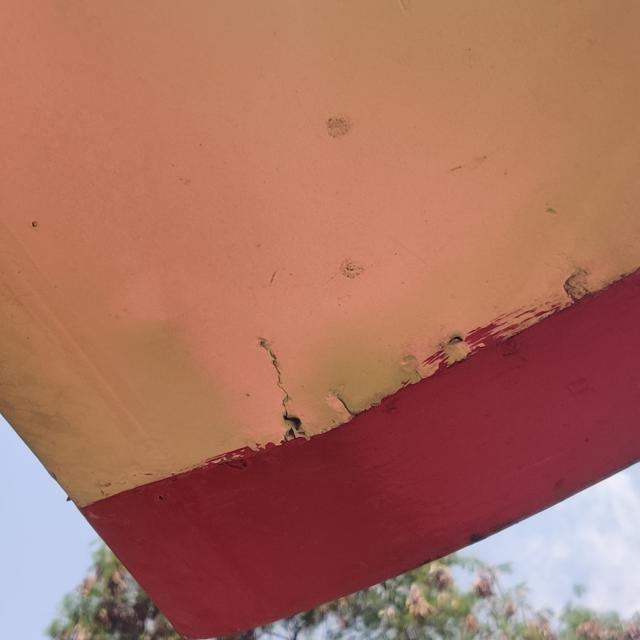Crack: (257, 338, 307, 442), (325, 386, 358, 422)
